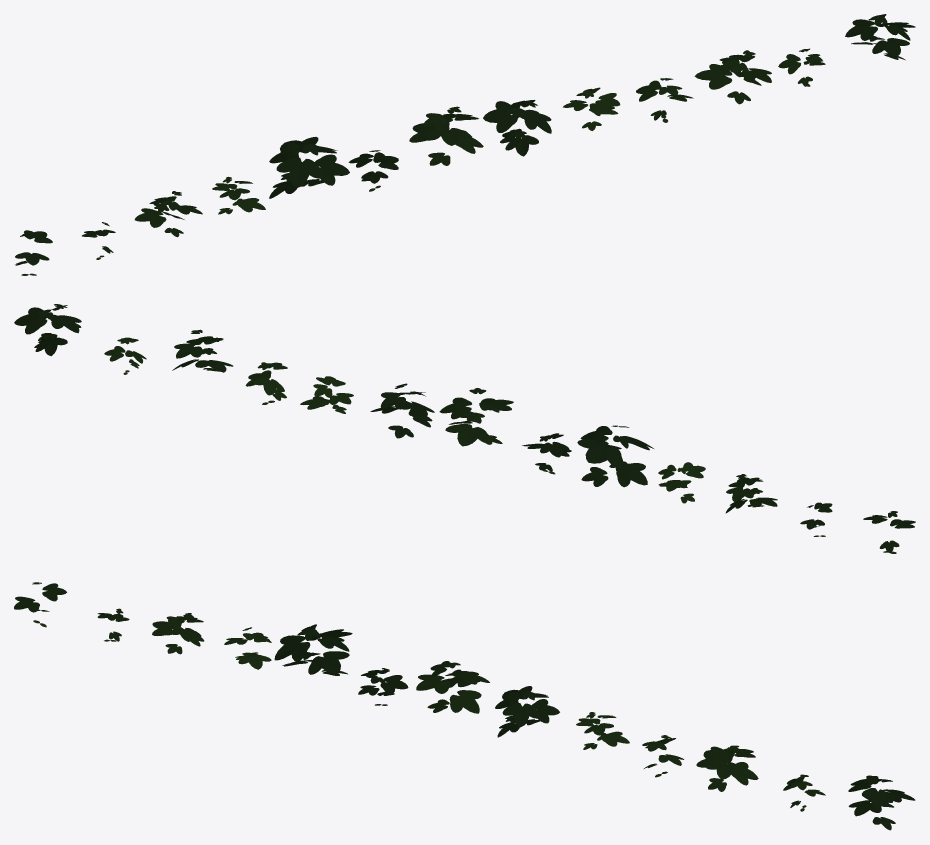
File: ROW_07_SEG5_foliage.dae
3 views of the same model, one above another, from view 1: azimuth 30°, elevation 25°; view 2: azimuth 150°, elevation 25°; view 3: azimuth 330°, elevation 25° (orthographic). The views are drawn at different scales.
Visible parts, largest first — view 1: ROW_07_SEG5_foliage; view 2: ROW_07_SEG5_foliage; view 3: ROW_07_SEG5_foliage.
Boxes of the visible parts, x1=… form: ROW_07_SEG5_foliage: x1=15, y1=14, x2=915, y2=275; ROW_07_SEG5_foliage: x1=14, y1=304, x2=915, y2=553; ROW_07_SEG5_foliage: x1=14, y1=582, x2=915, y2=830.
Bounding box in the file's own units: 3.89 × 0.3553 × 0.2677.
